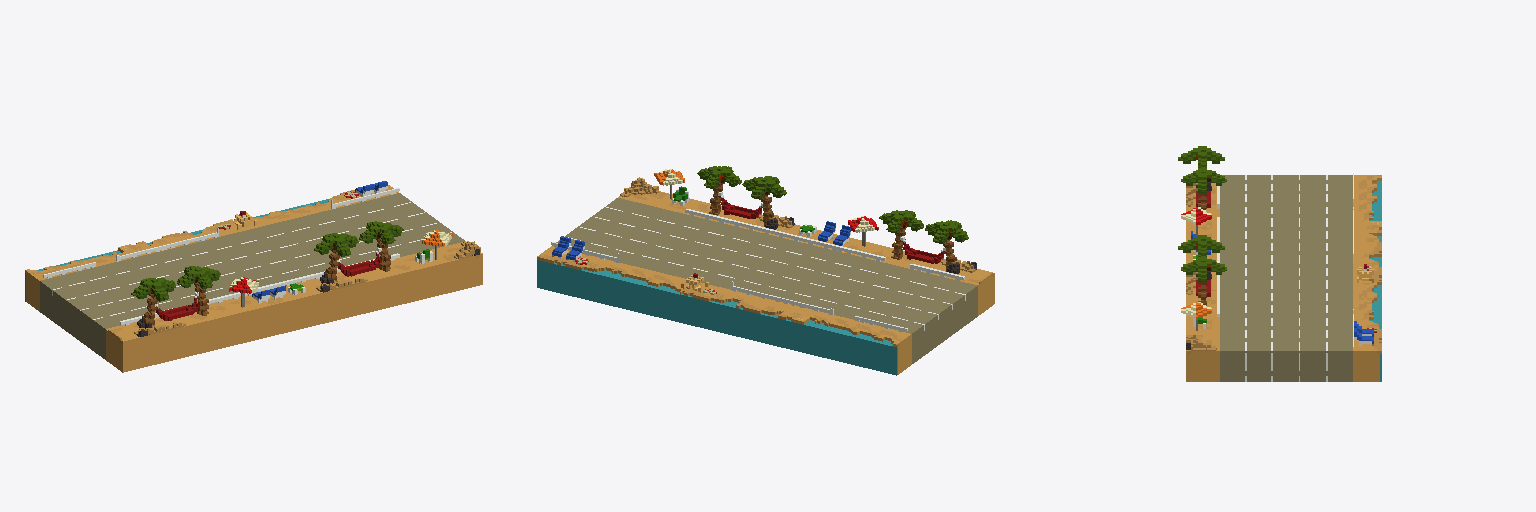
3 renders of one model, left to right at view 1: azimuth 30°, elevation 25°; view 2: azimuth 150°, elevation 25°; view 3: azimuth 270°, elevation 25°, orthographic.
Parts seen in each view (by area): view 1: object 1; view 2: object 1; view 3: object 1.
Boxes of the visible parts, x1=… form: object 1: x1=25, y1=181, x2=482, y2=372; object 1: x1=537, y1=166, x2=994, y2=375; object 1: x1=1178, y1=146, x2=1381, y2=381.
Bounding box in the file's own units: 25.5 × 5.2 × 12.5.
1 materials, 1 textured.